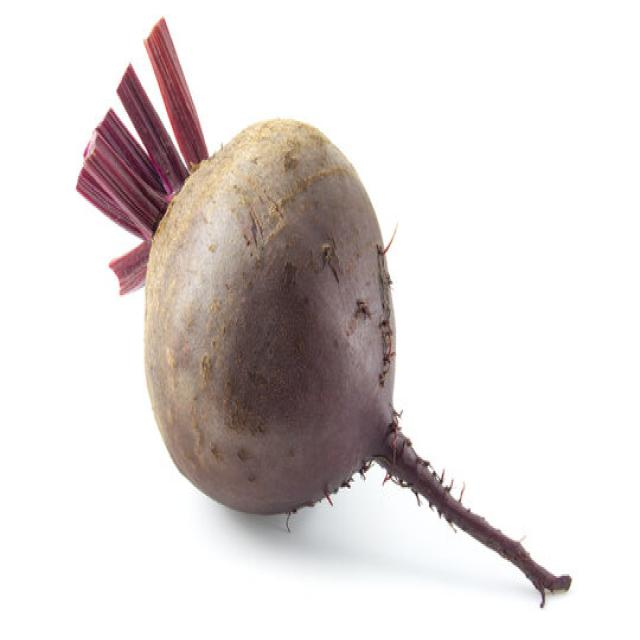Beetroot: (92, 60, 496, 557)
